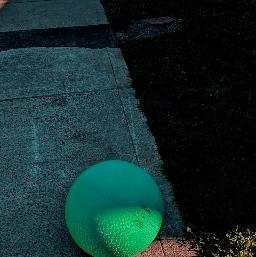algae: (68, 156, 166, 257)
